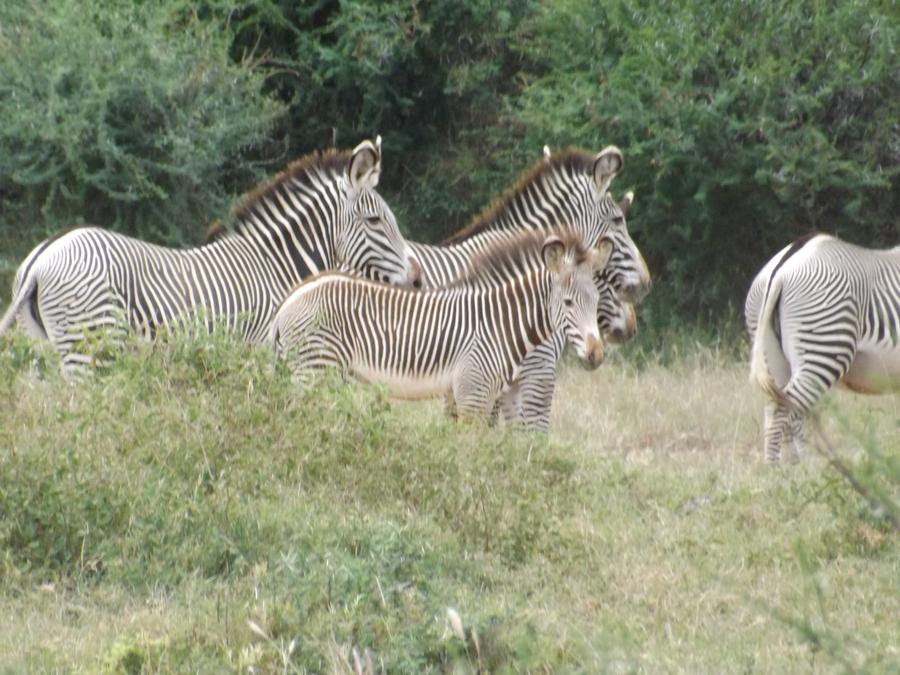zebra_grevys: (275, 259, 500, 405)
